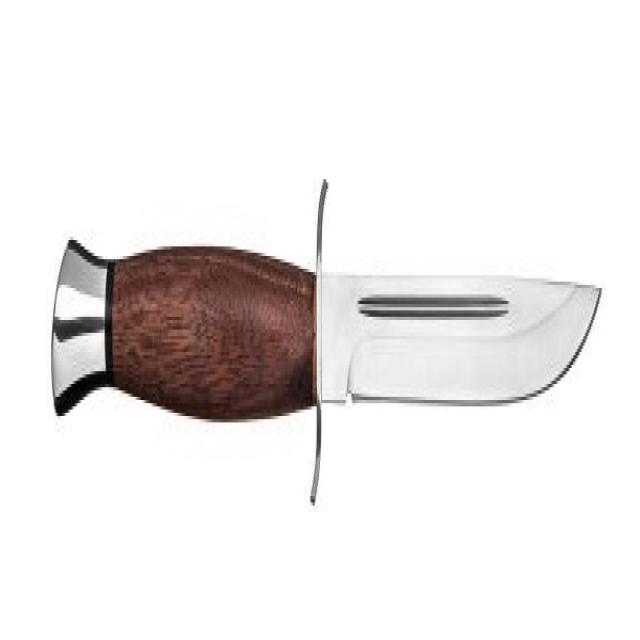knife: (48, 176, 604, 512)
